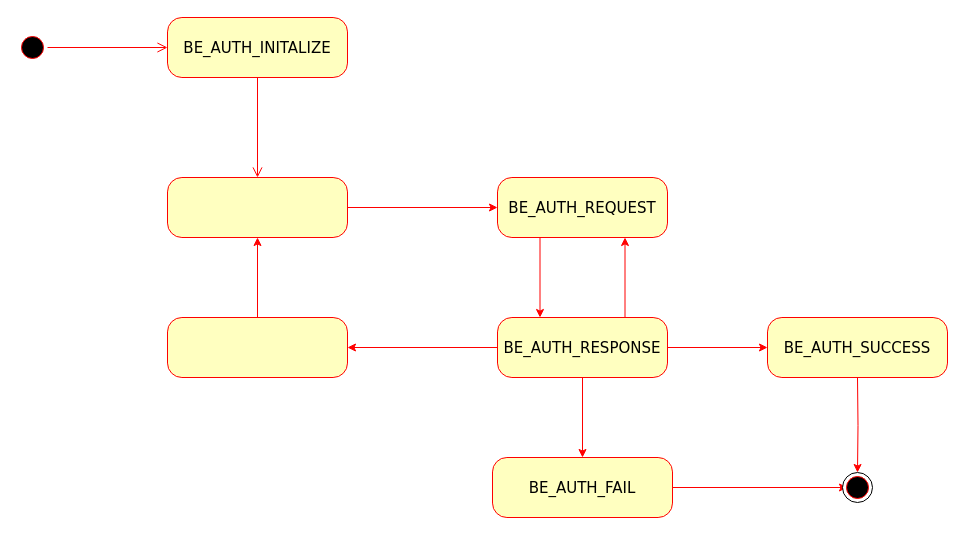
Image size: 965x535. Some labels were removed from this diagram. The shapes that lost their labels are listed below. From the top down, each one's centre as x and y in pixels, then its label:
At pixel 257 207: "BE_AUTH_IDLE".
At pixel 257 347: "BE_AUTH_TIMEOUT".
